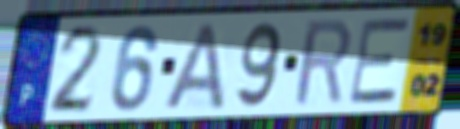2: (46, 23, 108, 116)
6: (108, 22, 160, 114)
9: (234, 18, 284, 109)
A: (161, 20, 228, 111)
E: (346, 15, 412, 107)
R: (292, 16, 353, 110)
